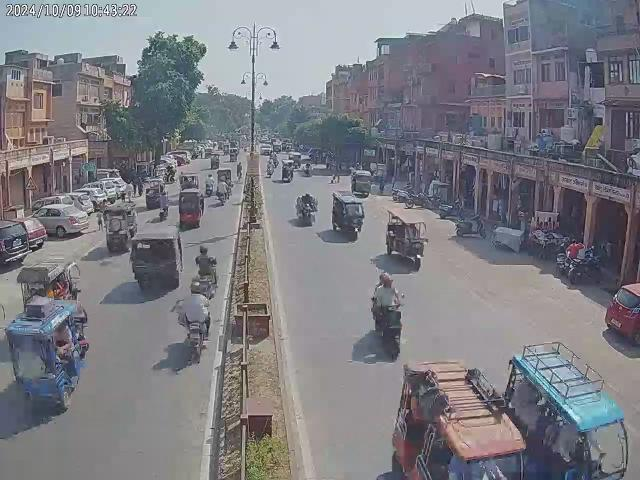auto: (504, 342, 630, 480), (392, 359, 528, 480), (6, 299, 90, 412), (128, 222, 184, 292), (18, 259, 80, 308), (384, 208, 430, 272), (101, 198, 138, 253), (330, 191, 366, 240), (177, 188, 204, 232), (142, 177, 164, 209), (350, 168, 372, 198)
car: (30, 200, 90, 237)
helmet: (188, 278, 204, 296), (199, 244, 209, 257)
motorbike: (568, 250, 602, 286)
motorbike-rider: (178, 280, 208, 360), (158, 189, 170, 219)
no_helmet: (380, 270, 396, 288)
scooty: (456, 214, 484, 240)
scooty-rider: (368, 269, 406, 356), (195, 240, 221, 298)
